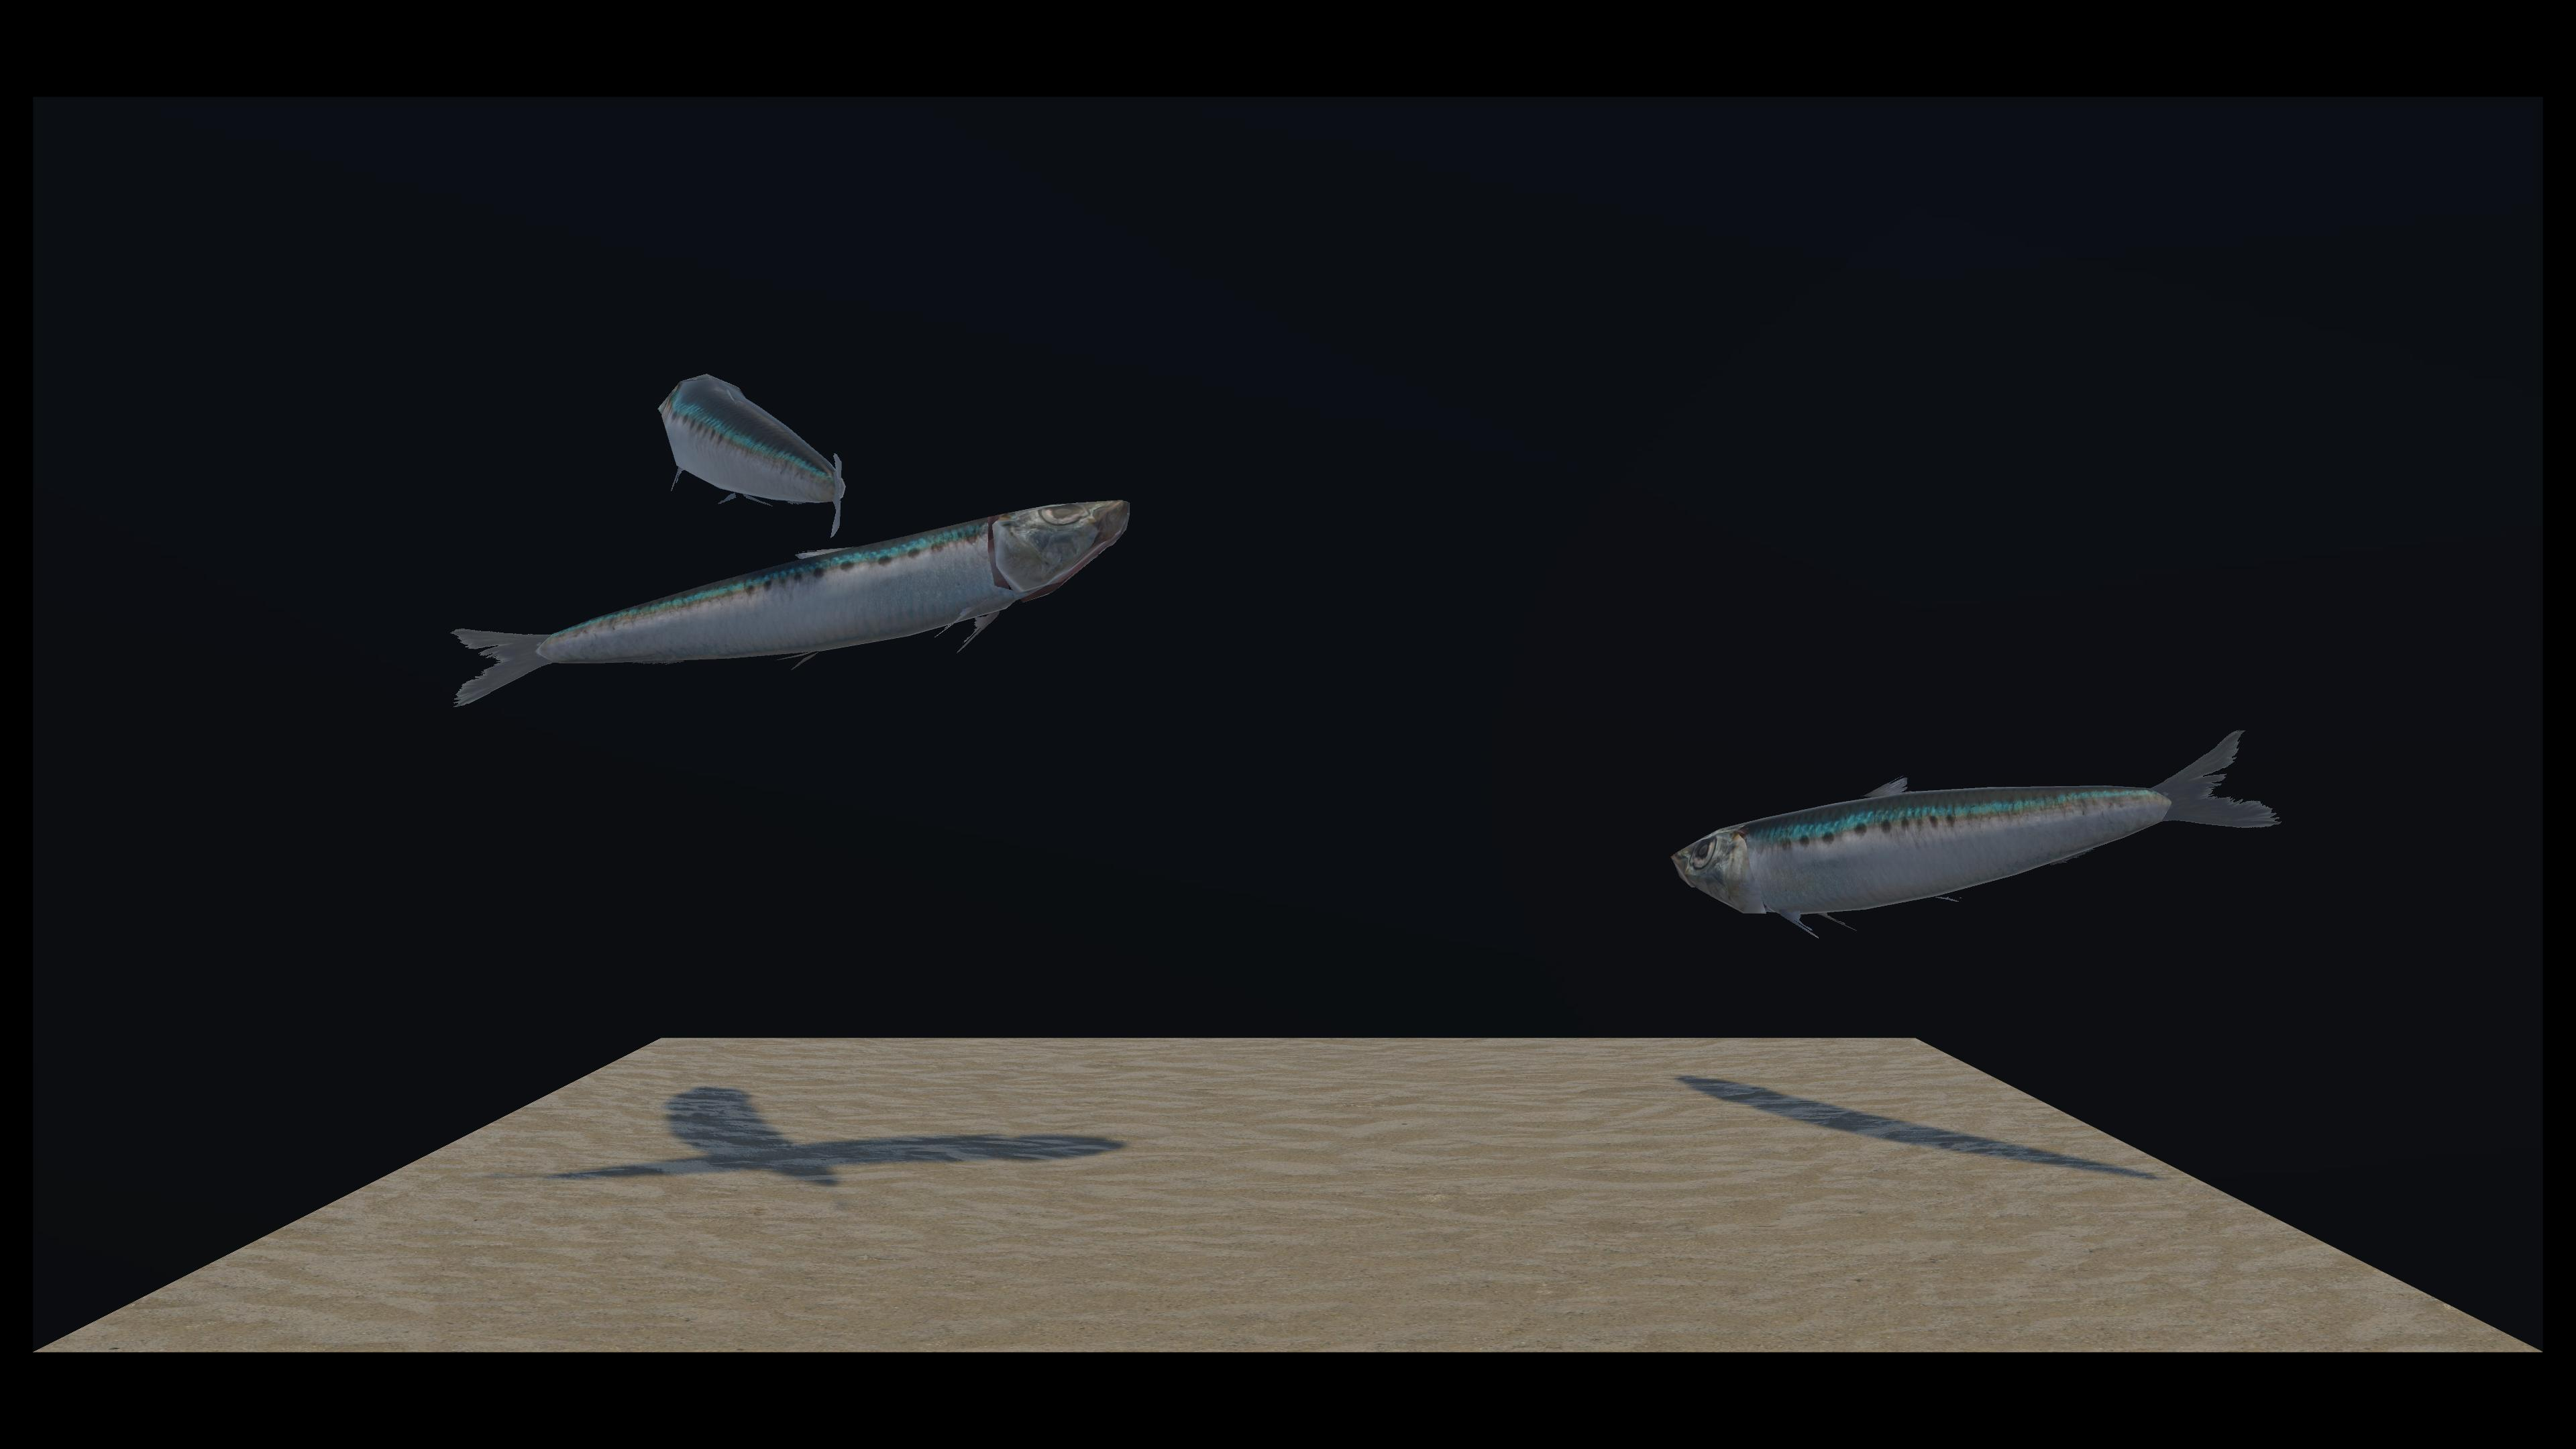Sardine_Front: (915, 444, 2273, 943), (460, 448, 1122, 706), (626, 364, 839, 582)
